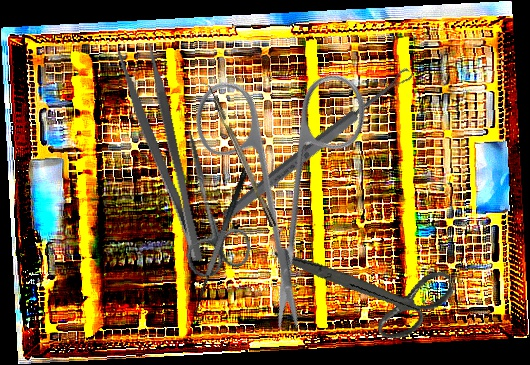Chopper: (197, 77, 277, 231)
Dressing Forceps: (115, 42, 209, 268)
Iris Scissors: (121, 12, 446, 339), (274, 211, 461, 363), (154, 121, 256, 281)
Spatula Surgical: (185, 164, 264, 323)
Surgical Spoon: (220, 66, 415, 223)
